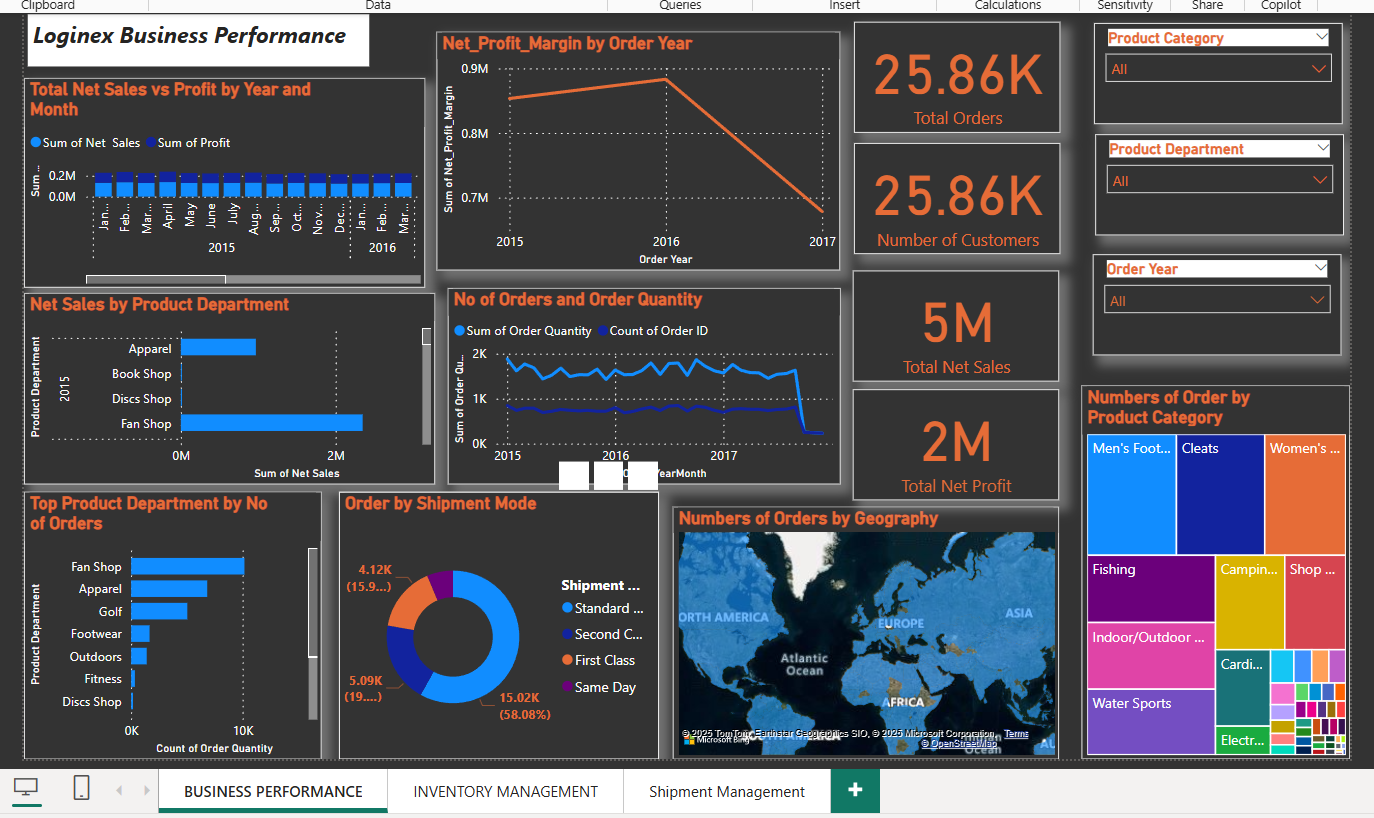

This screenshot's page, from the dashboard's own definition file:
{"tool":"powerbi","page":{"name":"BUSINESS PERFORMANCE","canvas":[1280,720],"ordinal":0},"visuals":[{"type":"columnChart","title":"Total Net Sales vs Profit by Year and Month","fields":{"Y":["Sum(orders_data.Net Sales)","Sum(orders_data.Profit)"],"Category":["orders_data.Shipment YearMonth.Variation.Date Hierarchy.Year","orders_data.Shipment YearMonth.Variation.Date Hierarchy.Month"]},"box":[0,62.7,387.3,202.7],"z":0},{"type":"lineChart","title":"Net_Profit_Margin by Order Year","fields":{"Category":["orders_data.Order Year"],"Y":["Sum(orders_data.Net_Profit_Margin)"]},"box":[398.1,18.1,389.7,230.4],"z":1000},{"type":"clusteredBarChart","title":" Net Sales by  Product Department","fields":{"Category":["orders_data.Order YearMonth.Variation.Date Hierarchy.Year","product_segment.Product Department"],"Y":["Sum(product_segment.Net Sales)"]},"box":[0,270.2,396.9,184.6],"z":2000},{"type":"lineChart","title":"No of Orders and Order Quantity","fields":{"Y":["Sum(orders_data.Order Quantity)","CountNonNull(orders_data.Order ID)"],"Category":["orders_data.Order YearMonth"]},"box":[409,265.4,378.8,189.4],"z":3000},{"type":"barChart","title":"Top Product Department by No of Orders","fields":{"Category":["orders_data.Product Department"],"Y":["CountNonNull(orders_data.Order Quantity)"]},"box":[0,462.1,287.1,258.2],"z":4000},{"type":"donutChart","title":"Order by Shipment Mode","fields":{"Y":["CountNonNull(orders_data.Order ID)"],"Category":["orders_data.Shipment Mode"]},"box":[304,462.1,308.8,258.2],"z":5000},{"type":"filledMap","title":"Numbers of Orders by Geography","fields":{"Category":["orders_data.Customer Country"],"Y":["Min(orders_data.Customer Region)"],"X":["Min(orders_data.Customer Market)"]},"box":[626.1,476.5,372.8,243.7],"z":6000},{"type":"treemap","title":"Numbers of Order  by Product Category","fields":{"Group":["product_segment.Product Category"],"Values":["CountNonNull(orders_data.Order Quantity)"]},"box":[1020.6,359.5,259.4,360.7],"z":7000},{"type":"card","fields":{"Values":["CountNonNull(orders_data.Order Quantity)"]},"box":[801.1,8.4,199.1,107.4],"z":8000},{"type":"card","fields":{"Values":["CountNonNull(orders_data.Customer ID)"]},"box":[801.1,125.5,199.1,107.4],"z":9000},{"type":"card","fields":{"Values":["Sum(orders_data.Net  Sales)"]},"box":[799.9,248.5,199.1,107.4],"z":10000},{"type":"card","fields":{"Values":["Sum(orders_data.Net_Profit_Margin)"]},"box":[799.9,363.1,199.1,107.4],"z":11000},{"type":"slicer","fields":{"Values":["orders_data.Product Category"]},"box":[1032.7,9.7,240.1,97.7],"z":12000},{"type":"slicer","fields":{"Values":["orders_data.Product Department"]},"box":[1033.9,117,240.1,97.7],"z":13000},{"type":"textbox","box":[3.6,1.2,329.4,50.7],"z":14000},{"type":"slicer","fields":{"Values":["orders_data.Order Year"]},"box":[1031.5,232.8,240.1,97.7],"z":15000}]}

Visuals, with their boxes in screenshot pixels (x1, y1, x2, y2):
"Total Net Sales vs Profit by Year and Month" columnChart: locate(36, 89, 431, 296)
"Net_Profit_Margin by Order Year" lineChart: locate(442, 44, 840, 279)
" Net Sales by  Product Department" clusteredBarChart: locate(36, 301, 441, 489)
"No of Orders and Order Quantity" lineChart: locate(453, 296, 840, 489)
"Top Product Department by No of Orders" barChart: locate(36, 497, 329, 761)
"Order by Shipment Mode" donutChart: locate(346, 497, 661, 761)
"Numbers of Orders by Geography" filledMap: locate(675, 512, 1056, 760)
"Numbers of Order  by Product Category" treemap: locate(1078, 392, 1343, 760)
card - CountNonNull(orders_data.Order Quantity): locate(854, 34, 1057, 143)
card - CountNonNull(orders_data.Customer ID): locate(854, 153, 1057, 263)
card - Sum(orders_data.Net  Sales): locate(853, 279, 1056, 388)
card - Sum(orders_data.Net_Profit_Margin): locate(853, 396, 1056, 505)
slicer - orders_data.Product Category: locate(1090, 35, 1335, 135)
slicer - orders_data.Product Department: locate(1091, 145, 1337, 244)
textbox: locate(39, 26, 376, 78)
slicer - orders_data.Order Year: locate(1089, 263, 1334, 363)
